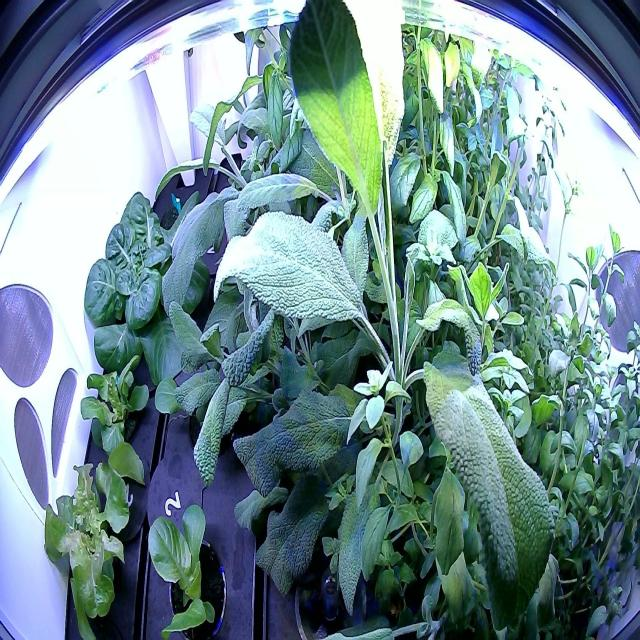young: (62, 182, 226, 398), (141, 492, 231, 637), (70, 352, 160, 480)
